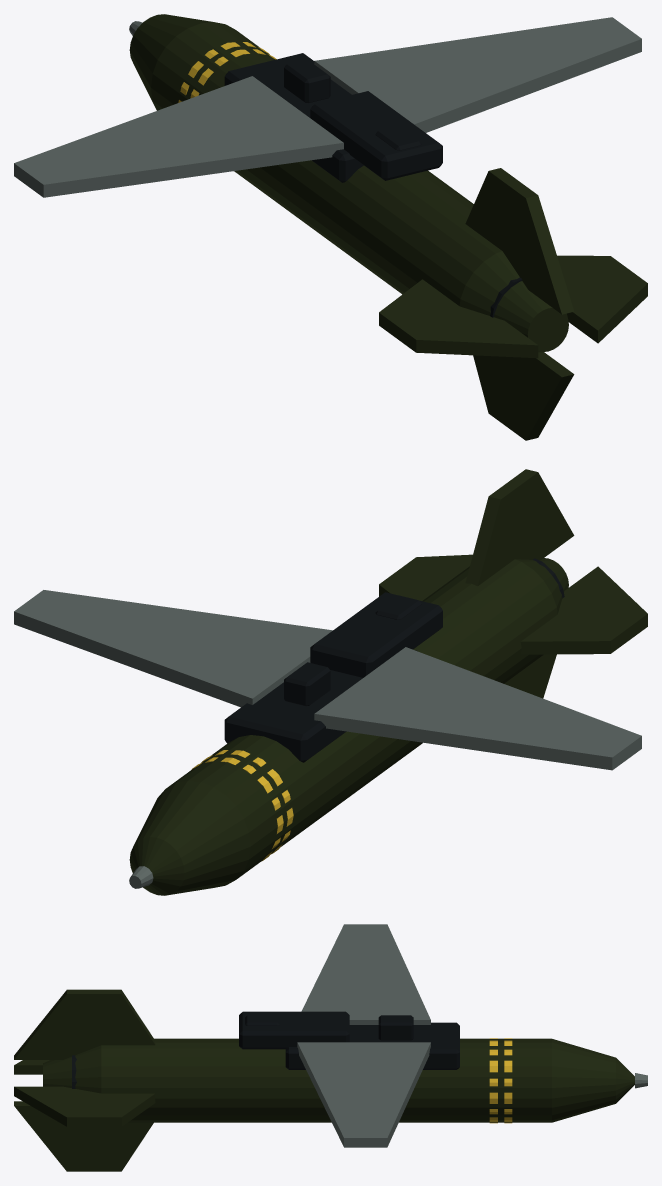
The model's file is BombGlide.obj.
The picture shows the model from 3 angles, top to bottom: view 1: azimuth 30°, elevation 25°; view 2: azimuth 150°, elevation 25°; view 3: azimuth 270°, elevation 25°; orthographic projection. The views are drawn at different scales.
Visible parts, largest first — view 1: Bomb_forged_casing, Deployable_glide_wing, Deployable_glide_wing.001, Tail_stabilizer.001, Tail_stabilizer.002, Mount_lug, Tail_stabilizer.003, Tail_stabilizer, Wing_hinge_housing, Suspension_lug.001, Suspension_lug; view 2: Bomb_forged_casing, Deployable_glide_wing, Deployable_glide_wing.001, Tail_stabilizer.001, Tail_stabilizer.002, Mount_lug, Wing_hinge_housing, Tail_stabilizer, Suspension_lug.001, Tail_stabilizer.003, Suspension_lug, Identification_band (+1 smaller); view 3: Bomb_forged_casing, Deployable_glide_wing.001, Deployable_glide_wing, Tail_stabilizer.001, Tail_stabilizer.003, Tail_stabilizer, Mount_lug, Wing_hinge_housing, Suspension_lug.001, Identification_band, Identification_band.001, Tail_stabilizer.002 (+1 smaller).
Boxes of the visible parts, x1,y1,x2,y2 form: Bomb_forged_casing: [129, 14, 568, 352]; Deployable_glide_wing: [14, 76, 343, 197]; Deployable_glide_wing.001: [314, 17, 641, 132]; Tail_stabilizer.001: [465, 168, 574, 314]; Tail_stabilizer.002: [379, 279, 538, 358]; Mount_lug: [310, 91, 442, 180]; Tail_stabilizer.003: [473, 352, 574, 440]; Tail_stabilizer: [557, 255, 647, 343]; Wing_hinge_housing: [224, 53, 363, 182]; Suspension_lug.001: [284, 59, 330, 102]; Suspension_lug: [375, 126, 421, 150]; Bomb_forged_casing: [129, 558, 568, 895]; Deployable_glide_wing: [314, 647, 641, 770]; Deployable_glide_wing.001: [14, 590, 332, 707]; Tail_stabilizer.001: [465, 469, 574, 586]; Tail_stabilizer.002: [520, 566, 647, 654]; Mount_lug: [310, 592, 442, 677]; Wing_hinge_housing: [224, 650, 417, 762]; Tail_stabilizer: [379, 554, 472, 600]; Suspension_lug.001: [284, 662, 330, 705]; Tail_stabilizer.003: [504, 654, 556, 698]; Suspension_lug: [375, 595, 421, 619]; Identification_band: [191, 757, 283, 861]; Bomb_forged_casing: [43, 1038, 634, 1122]; Deployable_glide_wing.001: [297, 1042, 430, 1147]; Deployable_glide_wing: [301, 924, 430, 1024]; Tail_stabilizer.001: [14, 989, 155, 1059]; Tail_stabilizer.003: [14, 1101, 153, 1171]; Tail_stabilizer: [14, 1086, 155, 1126]; Mount_lug: [239, 1011, 349, 1049]; Wing_hinge_housing: [285, 1022, 459, 1069]; Suspension_lug.001: [378, 1015, 413, 1040]; Identification_band: [504, 1038, 512, 1123]; Identification_band.001: [489, 1038, 497, 1123]; Tail_stabilizer.002: [14, 1060, 50, 1074].
Bounding box in the file's own units: 1.74 × 0.674 × 2.18.
